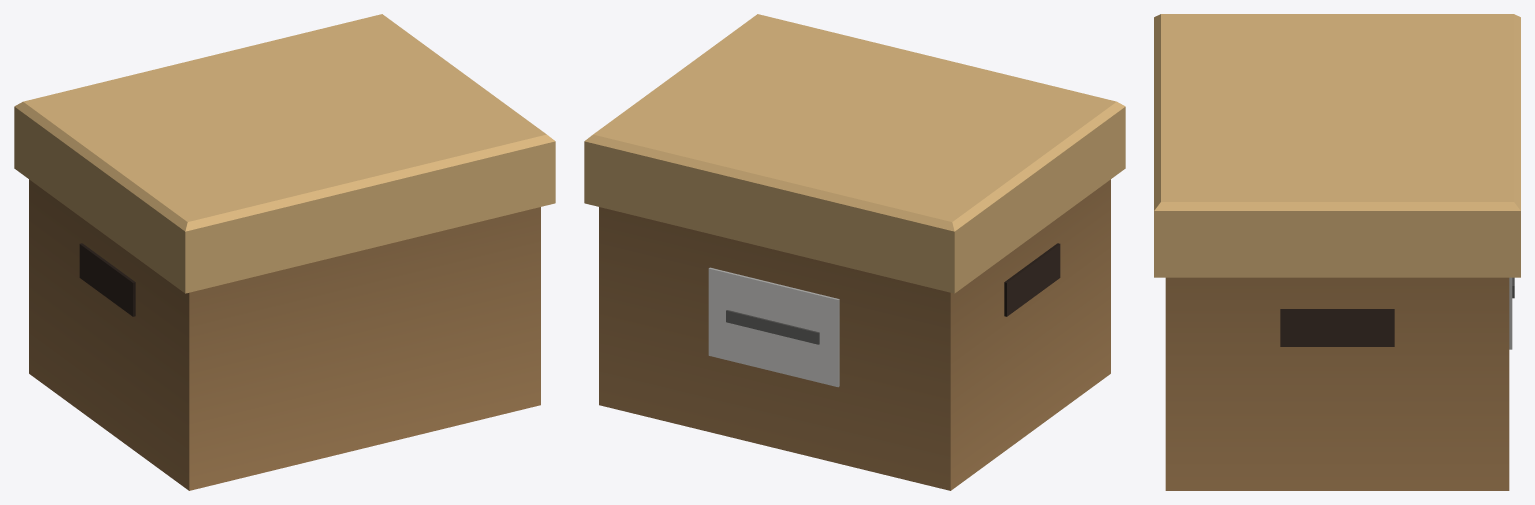
Rendered from held_box_01.glb.
3 renders of one model, left to right at view 1: azimuth 30°, elevation 25°; view 2: azimuth 150°, elevation 25°; view 3: azimuth 270°, elevation 25°, orthographic. The views are drawn at different scales.
Parts seen in each view (by area): view 1: held_box_01_mesh; view 2: held_box_01_mesh; view 3: held_box_01_mesh.
Boxes of the visible parts, box(x1,y1,x2,y2) form: held_box_01_mesh: box(14, 14, 555, 490); held_box_01_mesh: box(584, 14, 1125, 490); held_box_01_mesh: box(1154, 14, 1520, 490).
Size of the model in its own units: 0.4 by 0.28 by 0.32.
1 material, 1 textured.
